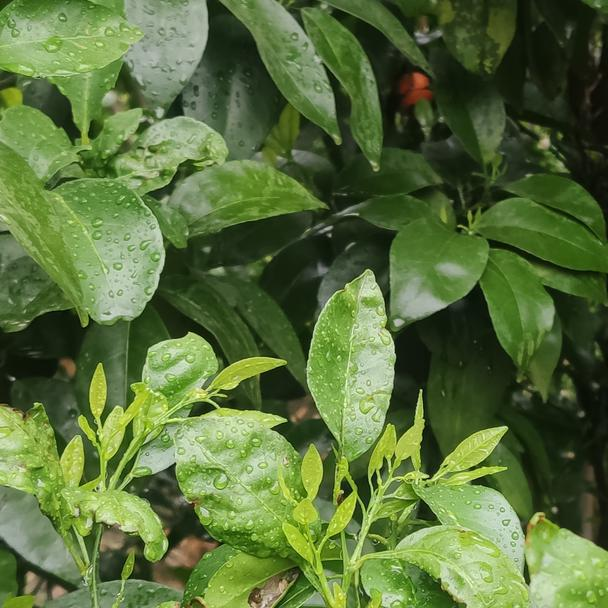shoot: (129, 352, 292, 461), (66, 381, 143, 547), (343, 429, 422, 578), (277, 462, 352, 606)
